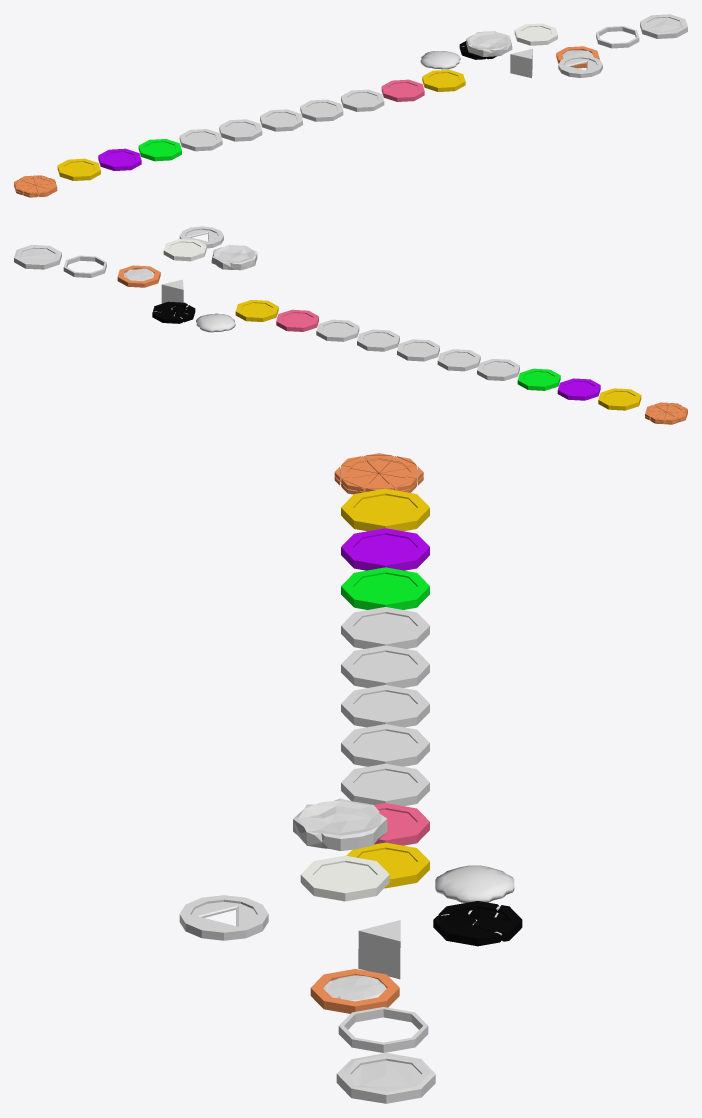
File: PalladiumCoin.fbx
3 renders of one model, top to bottom at view 1: azimuth 30°, elevation 25°; view 2: azimuth 150°, elevation 25°; view 3: azimuth 270°, elevation 25°, orthographic. The views are drawn at different scales.
Parts seen in each view (by area): view 1: Cylinder, Cylinder.018, Cylinder.003, Cylinder.001, Cylinder.008, Cylinder.011, Cylinder.004, Cylinder.002, Cylinder.005, Cylinder.007, Cylinder.010, Cylinder.009 (+7 smaller); view 2: Cylinder.018, Cylinder, Cylinder.001, Cylinder.004, Cylinder.011, Cylinder.007, Cylinder.019, Cylinder.010, Cylinder.002, Cylinder.006, Cylinder.009, Cylinder.012_cell.034 (+8 smaller); view 3: Cylinder.018, Cylinder, Cylinder.001, Cylinder.012, Cylinder.019, Cylinder.011, Cylinder.015, Cylinder.007, Cylinder.009, Cylinder.005, Cylinder.006, Cylinder.010 (+8 smaller).
Part boxes in pixels (left/top/right/bottom): Cylinder: left=466, top=31, right=512, bottom=56; Cylinder.018: left=640, top=14, right=687, bottom=38; Cylinder.003: left=381, top=79, right=424, bottom=101; Cylinder.001: left=514, top=23, right=557, bottom=45; Cylinder.008: left=179, top=129, right=222, bottom=151; Cylinder.011: left=57, top=158, right=100, bottom=180; Cylinder.004: left=341, top=89, right=384, bottom=111; Cylinder.002: left=422, top=69, right=465, bottom=91; Cylinder.005: left=300, top=99, right=343, bottom=121; Cylinder.007: left=219, top=119, right=262, bottom=141; Cylinder.010: left=98, top=148, right=141, bottom=170; Cylinder.009: left=138, top=139, right=181, bottom=161; Cylinder.018: left=14, top=245, right=61, bottom=269; Cylinder: left=211, top=244, right=257, bottom=270; Cylinder.001: left=163, top=239, right=206, bottom=261; Cylinder.004: left=316, top=319, right=359, bottom=341; Cylinder.011: left=598, top=388, right=641, bottom=410; Cylinder.007: left=437, top=349, right=480, bottom=371; Cylinder.019: left=117, top=265, right=160, bottom=287; Cylinder.010: left=557, top=378, right=600, bottom=400; Cylinder.002: left=235, top=300, right=278, bottom=321; Cylinder.006: left=397, top=339, right=439, bottom=361; Cylinder.009: left=517, top=368, right=560, bottom=390; Cylinder.012_cell.034: left=645, top=402, right=687, bottom=424; Cylinder.018: left=336, top=1052, right=435, bottom=1103; Cylinder: left=293, top=798, right=387, bottom=851; Cylinder.001: left=300, top=855, right=389, bottom=901; Cylinder.012: left=433, top=901, right=522, bottom=946; Cylinder.019: left=310, top=969, right=399, bottom=1013; Cylinder.011: left=341, top=488, right=429, bottom=531; Cylinder.015: left=179, top=895, right=268, bottom=940; Cylinder.007: left=341, top=645, right=429, bottom=687; Cylinder.009: left=341, top=567, right=429, bottom=609; Cylinder.005: left=341, top=724, right=429, bottom=766; Cylinder.006: left=341, top=685, right=429, bottom=727; Cylinder.010: left=341, top=528, right=429, bottom=570.
Size of the model in its own units: 3465 by 260 by 771.
